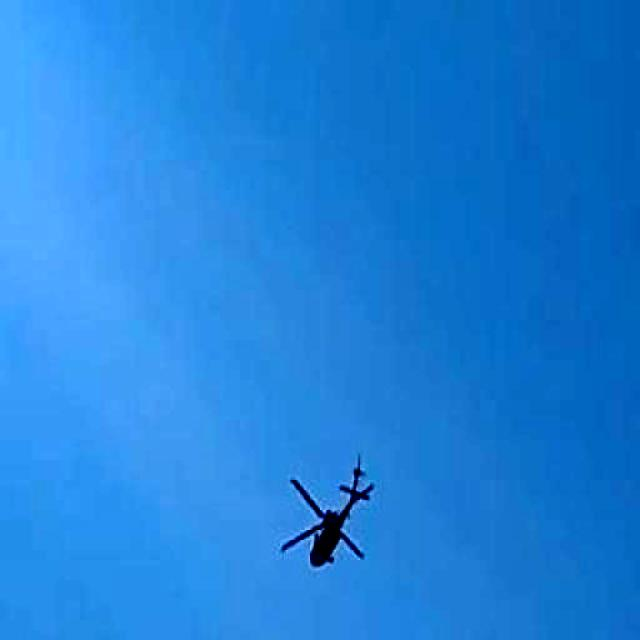drone: (259, 426, 409, 592)
